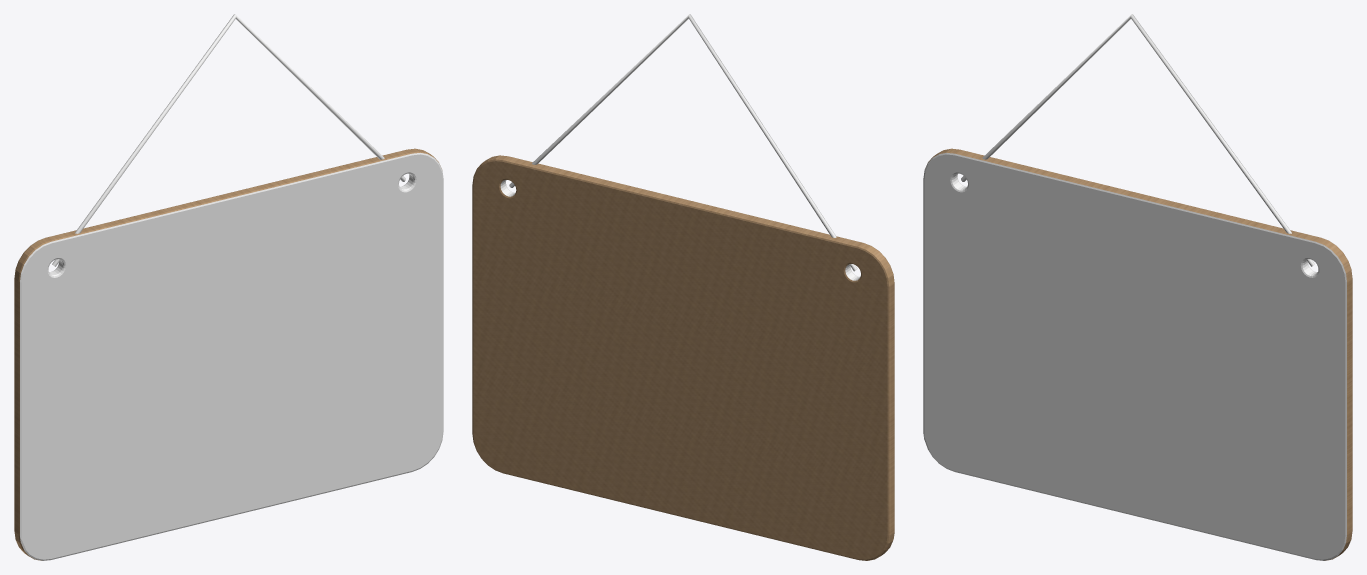
3 views of the same model, side by side, from view 1: azimuth 30°, elevation 25°; view 2: azimuth 150°, elevation 25°; view 3: azimuth 330°, elevation 25° (orthographic).
Visible parts, largest first — view 1: MDF-Schild mit Kordel, Aufhängekordel; view 2: MDF-Schild mit Kordel, Aufhängekordel; view 3: MDF-Schild mit Kordel, Aufhängekordel.
Boxes of the visible parts, x1=… form: MDF-Schild mit Kordel: x1=14, y1=148, x2=443, y2=560; Aufhängekordel: x1=52, y1=14, x2=405, y2=266; MDF-Schild mit Kordel: x1=472, y1=155, x2=894, y2=560; Aufhängekordel: x1=509, y1=14, x2=857, y2=271; MDF-Schild mit Kordel: x1=923, y1=148, x2=1352, y2=560; Aufhängekordel: x1=961, y1=14, x2=1314, y2=266.
Bounding box in the file's own units: 0.16 × 0.1818 × 0.0067.
3 materials, 1 textured.
